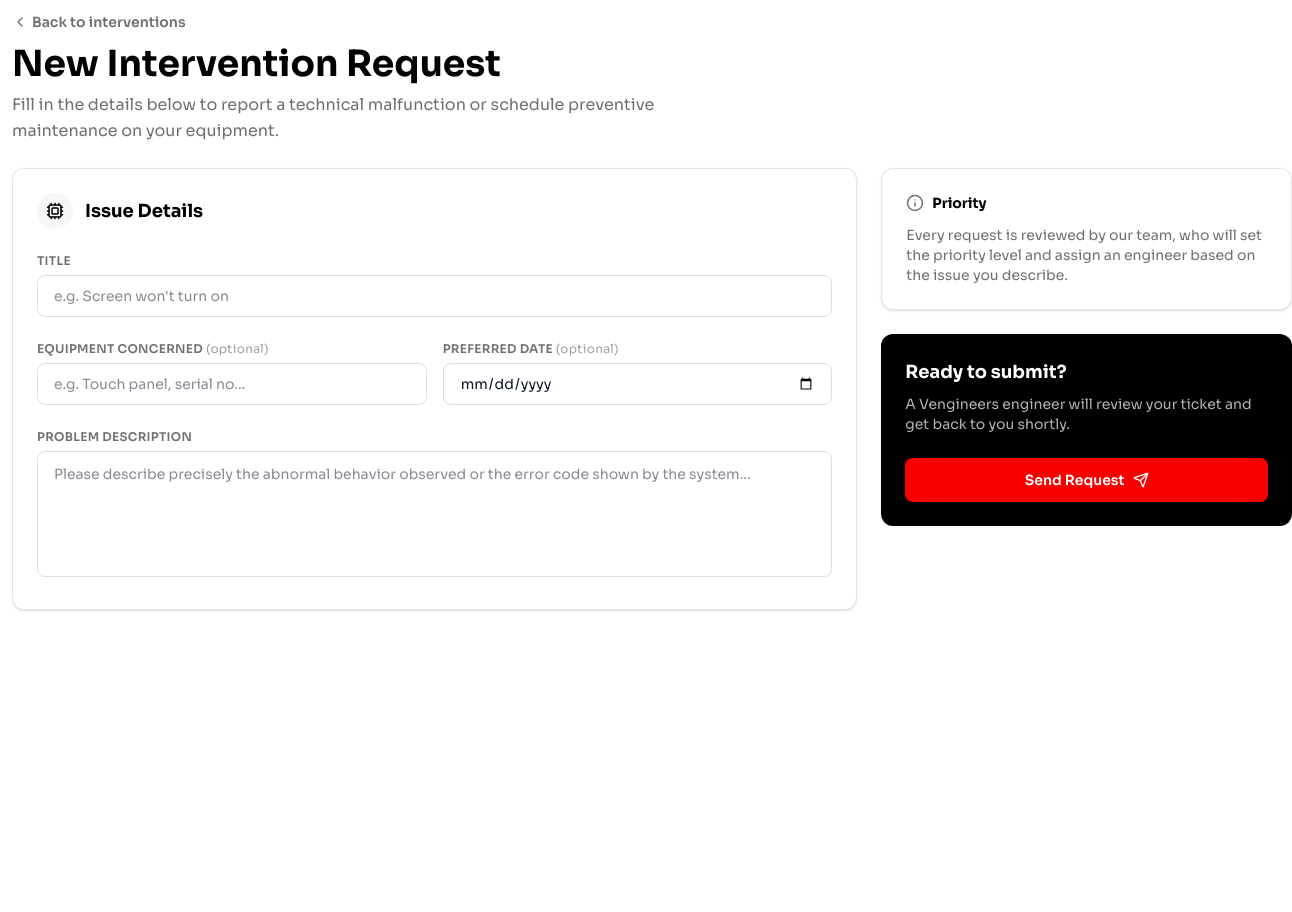
Test: InterventionNew › displays 422 field errors per field
The image size is (1292, 912).
# Remplir les champs requis pour que le formulaire soit soumis (browser validation)
In the field labelled "Title": (435, 296) x1=37 y1=275 x2=832 y2=317, type "Test"
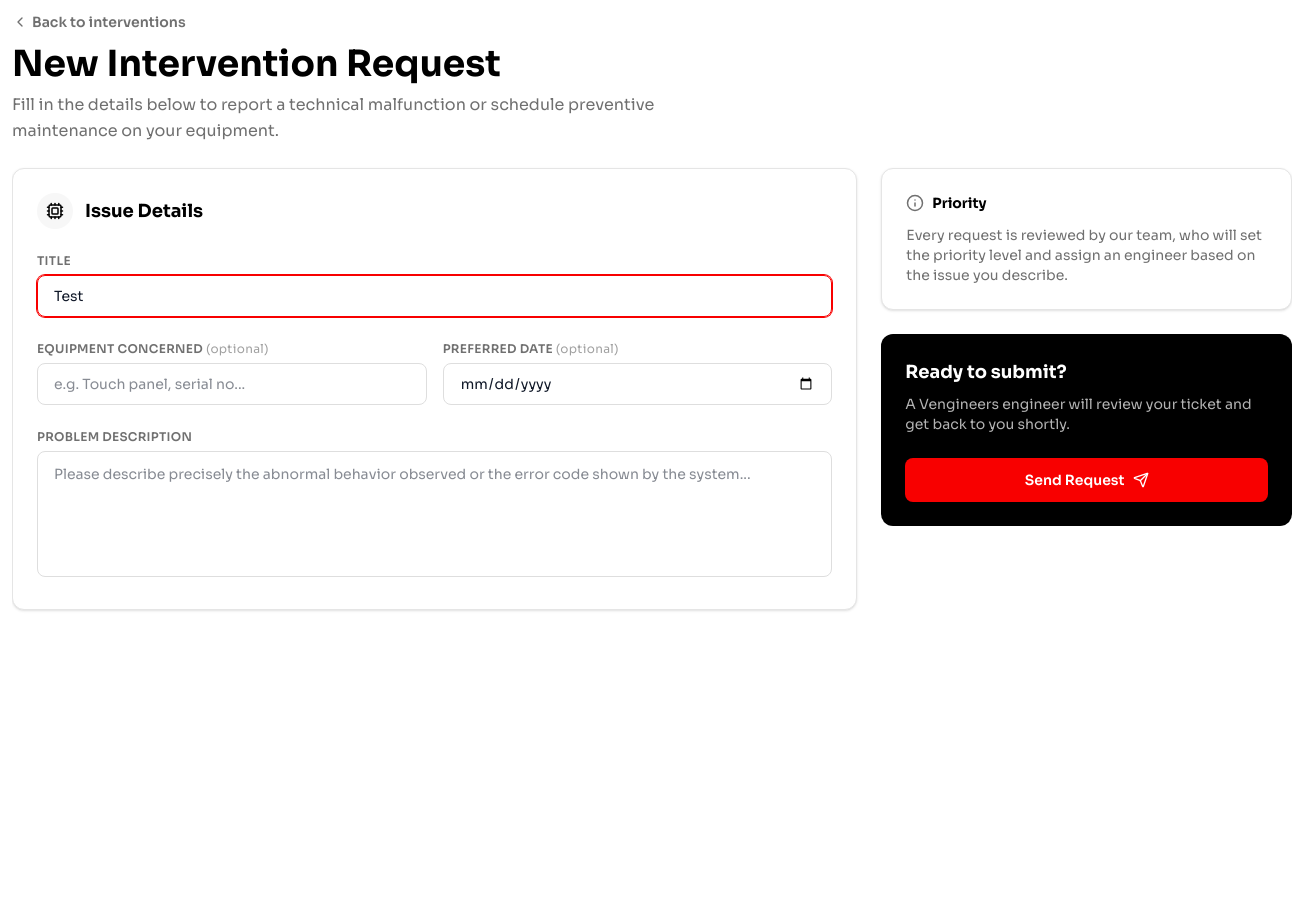
In the text box labelled "Problem Description": (435, 514) x1=37 y1=451 x2=832 y2=577, type "Test description"
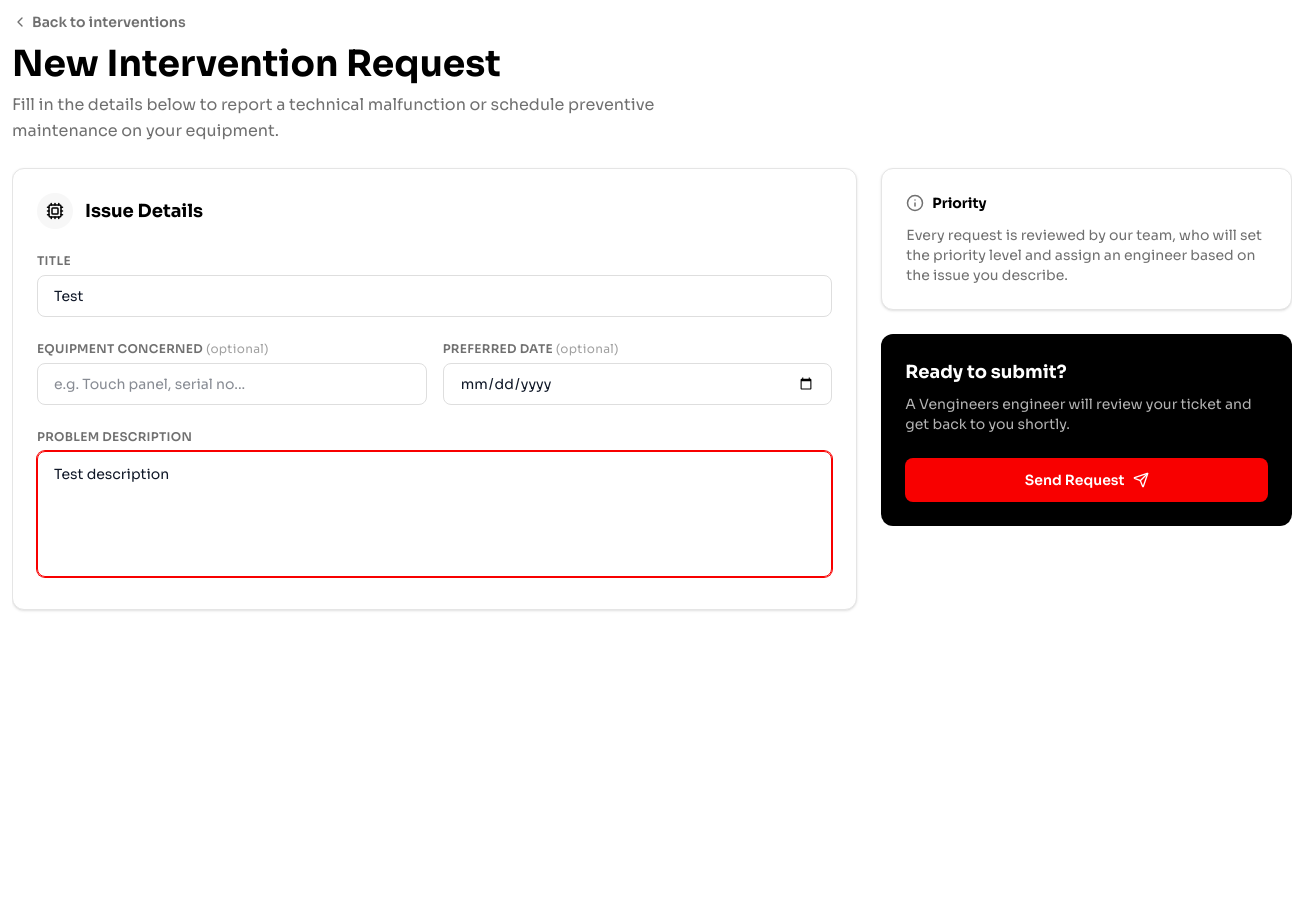
Click the button "Send Request": (1087, 480) x1=905 y1=458 x2=1268 y2=502
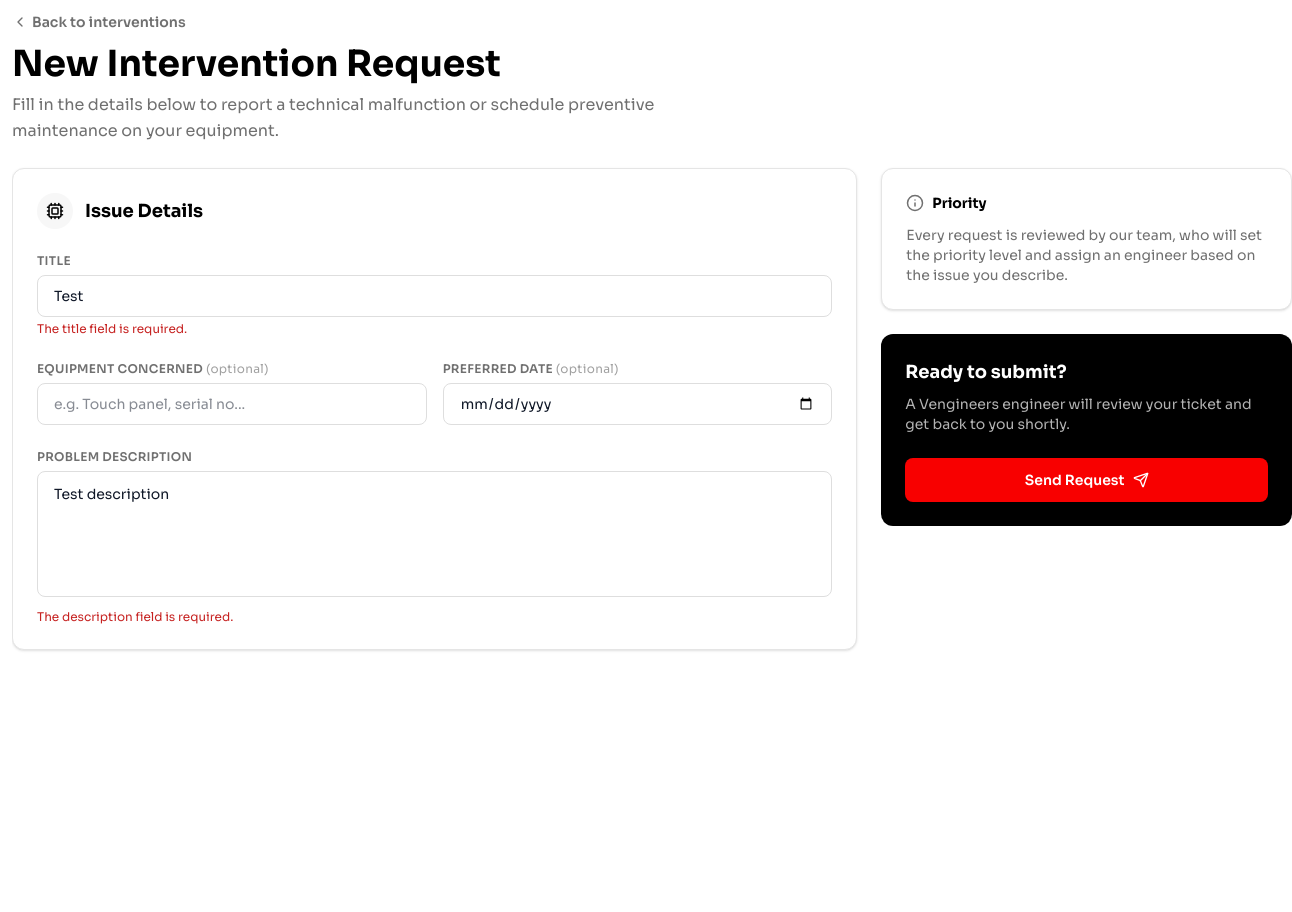
Now the text "The title field is required." is shown, box x1=37 y1=321 x2=187 y2=336
Now the text "The description field is required." is shown, box x1=37 y1=609 x2=233 y2=624
